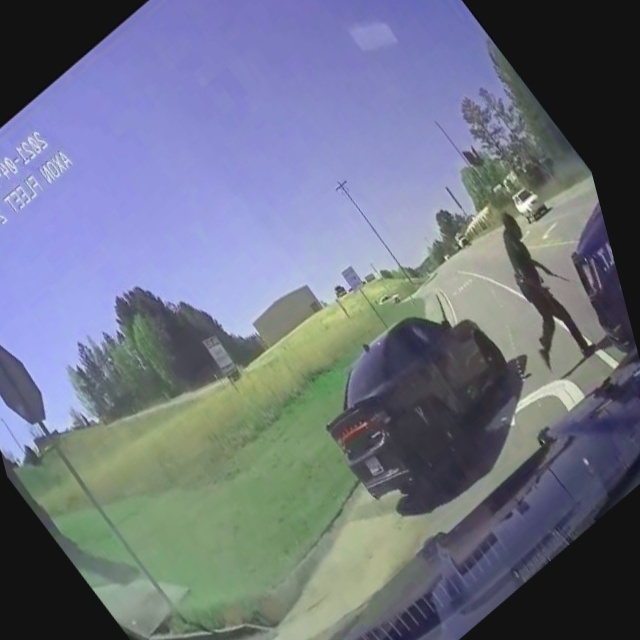gun: (531, 245, 580, 301)
